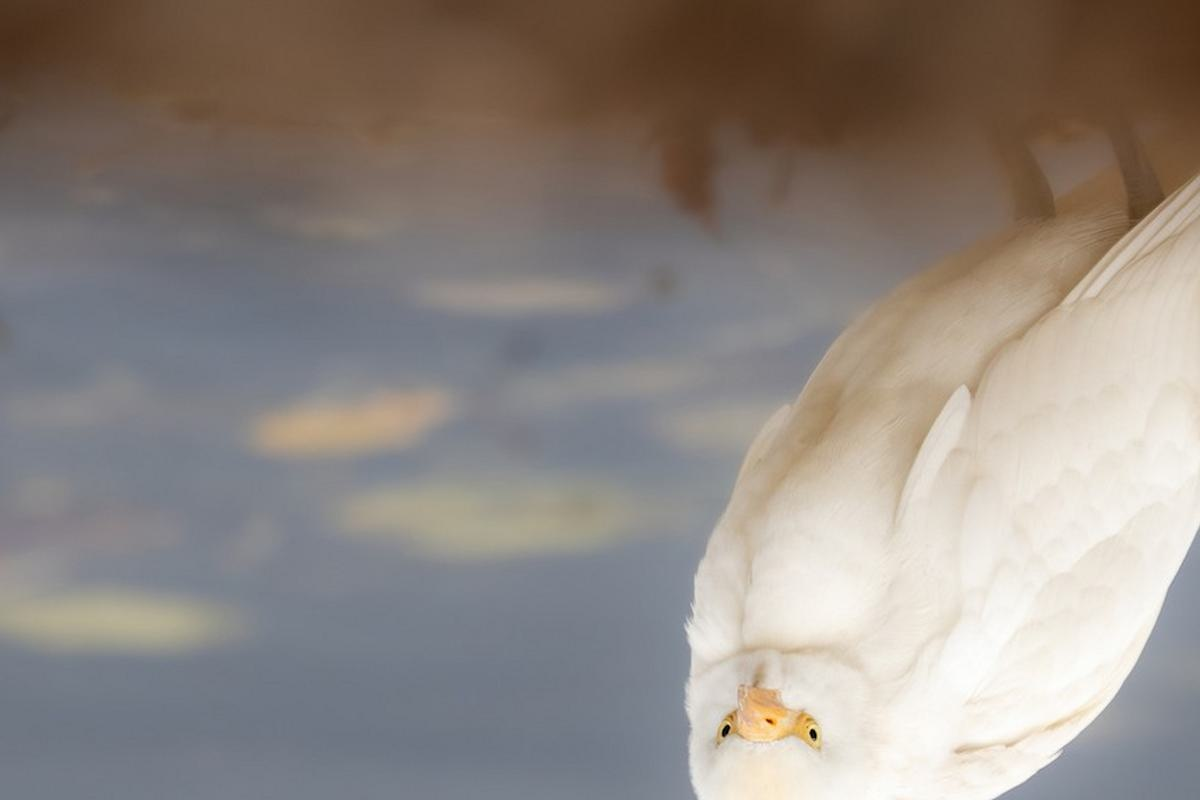egret: (673, 224, 1200, 792)
